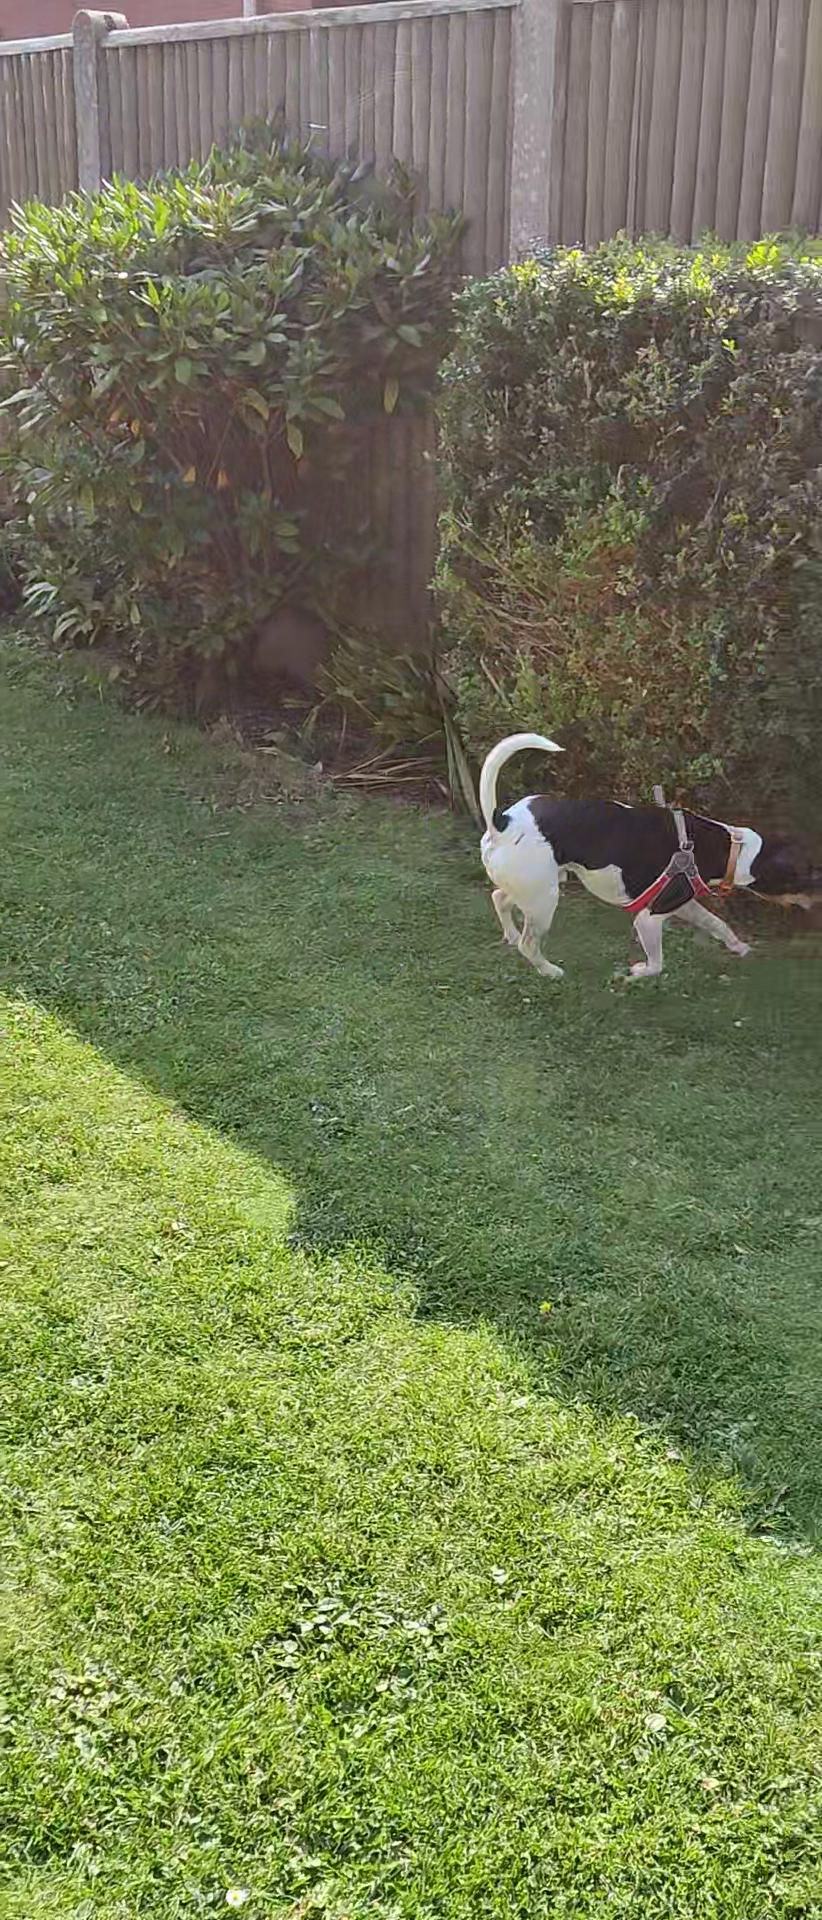Dog: (454, 702, 821, 996)
